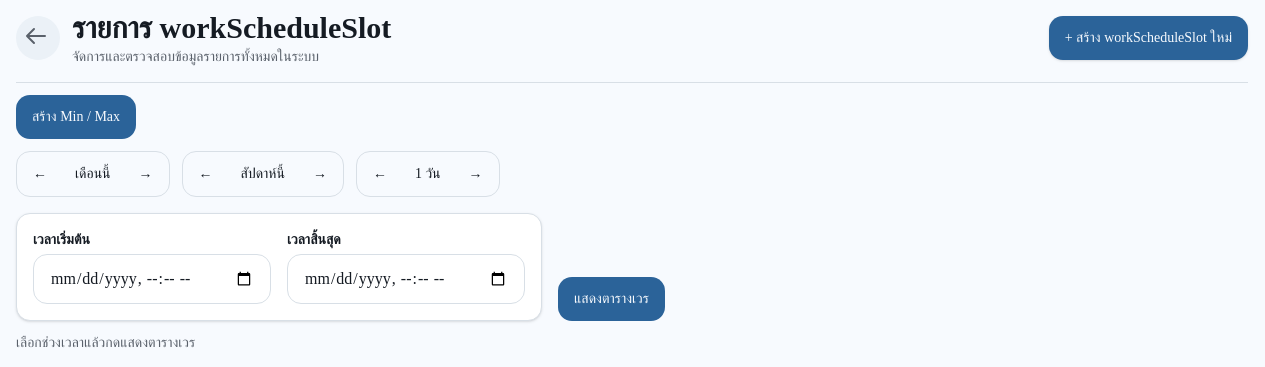
Test: Admin slot calendar period controls › fills the current day in the place timezone without applying or requesting it
Expected: the button "แสดงตารางเวร" is shown, x1=558 y1=277 x2=665 y2=321
Click the button "1 วัน" at (428, 174), box x1=403 y1=156 x2=452 y2=192
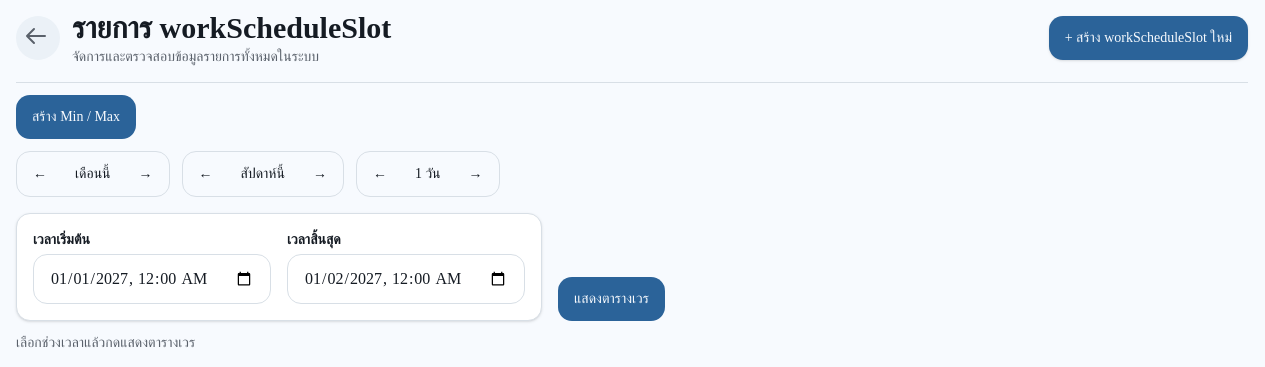
Expected: the number of fields is 2, x1=33 y1=254 x2=271 y2=304; x1=287 y1=254 x2=525 y2=304
Result: the field below "เวลาเริ่มต้น" holds "2027-01-01T00:00" at x1=33 y1=254 x2=271 y2=304
Result: the field below "เวลาสิ้นสุด" holds "2027-01-02T00:00" at x1=287 y1=254 x2=525 y2=304
